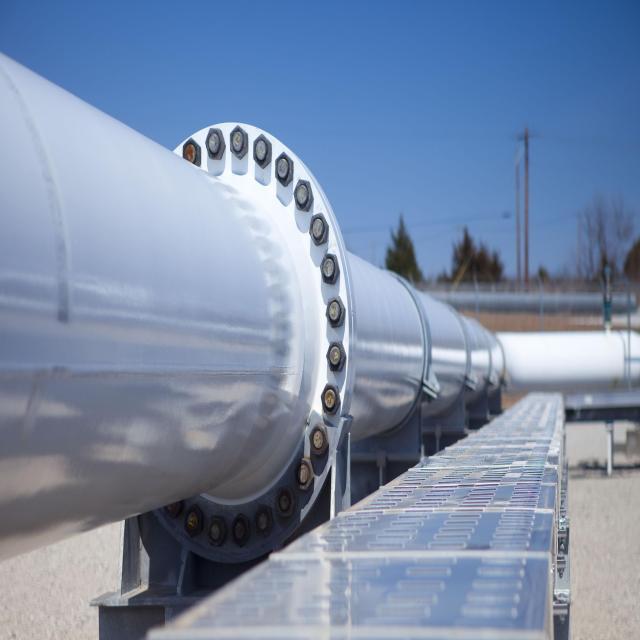gas: (0, 50, 504, 546), (506, 336, 637, 391)
